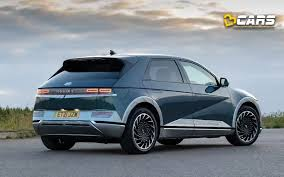Honda Ioniq: (30, 45, 267, 157)
